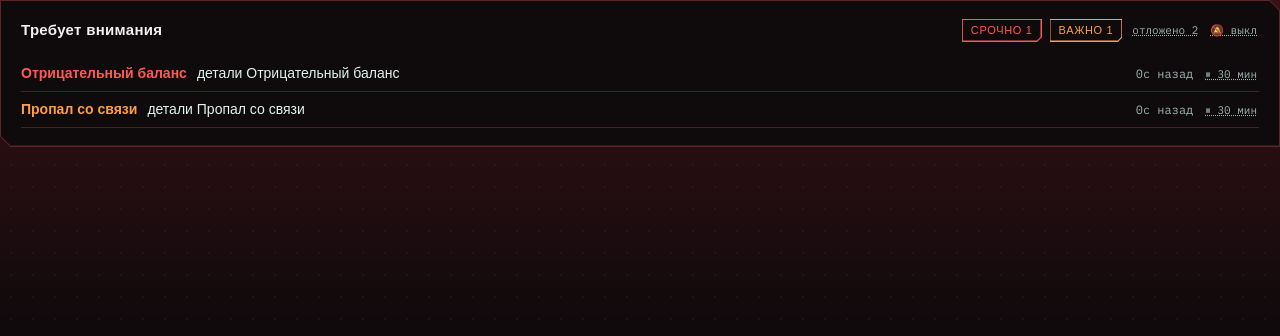
Test: AttentionPanel › «отложено N» переключает показ отложенных (?all=1)
Click the button "отложено 2" at (1165, 30), box [1130,19,1200,42]
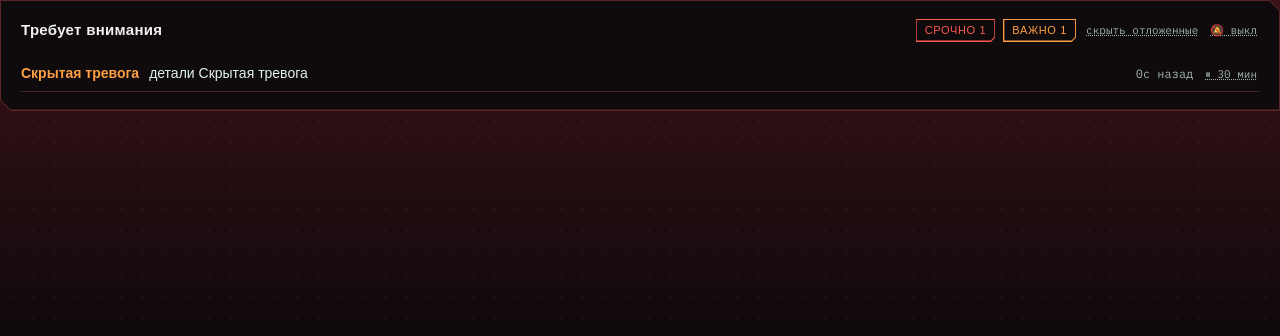
Check: the text "Скрытая тревога" is shown, box [21,62,139,84]
Check: the button "скрыть отложенные" is shown, box [1084,19,1200,42]
